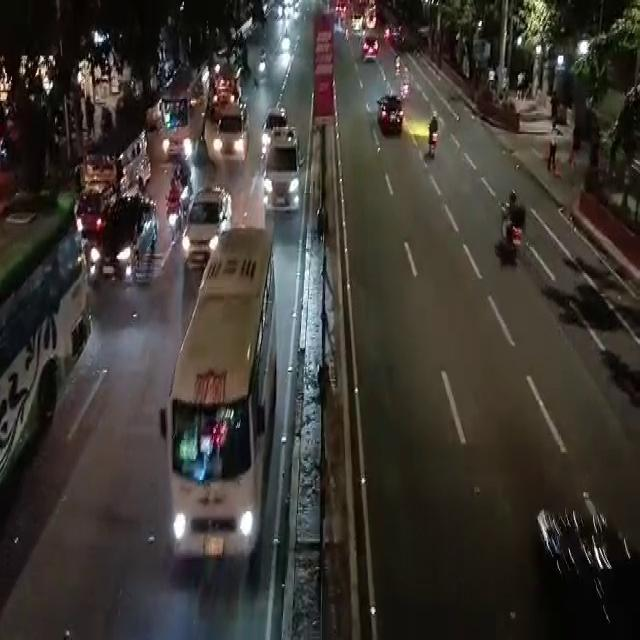bus: (1, 184, 98, 507), (177, 254, 269, 568), (160, 75, 198, 161)
car: (96, 212, 158, 283), (261, 134, 306, 216), (185, 190, 222, 268), (215, 101, 250, 164), (376, 87, 406, 136), (360, 34, 379, 66)
jeepney: (77, 130, 151, 224), (212, 64, 242, 108)
motorcycle: (502, 189, 523, 268), (168, 178, 184, 240), (427, 114, 440, 158), (402, 64, 411, 99), (393, 46, 402, 80), (260, 51, 267, 78)
